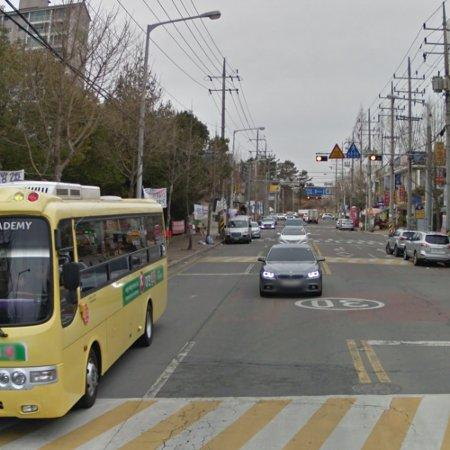crosswalks: (0, 393, 450, 450)
